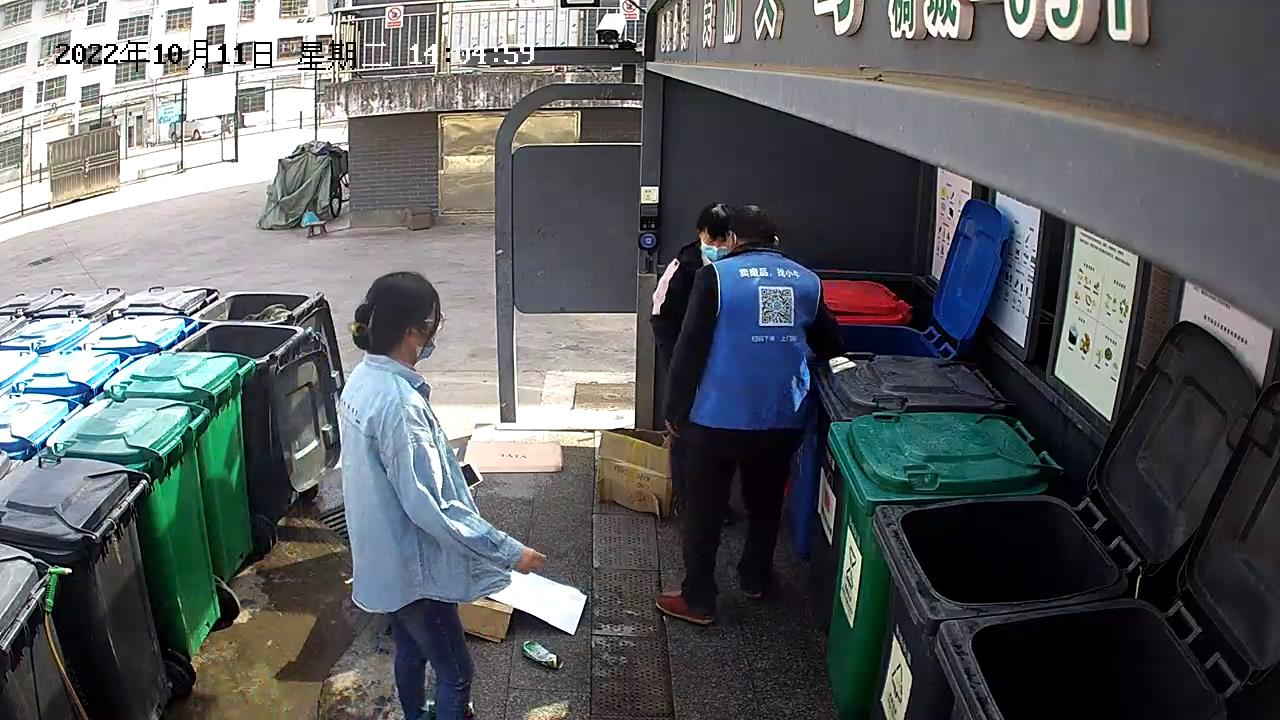lvzhipin: (522, 637, 567, 671)
person: (651, 191, 741, 376)
worker: (335, 269, 548, 720), (654, 202, 846, 629)
zhizhipin: (455, 562, 588, 645), (595, 424, 677, 520), (457, 437, 565, 475)
